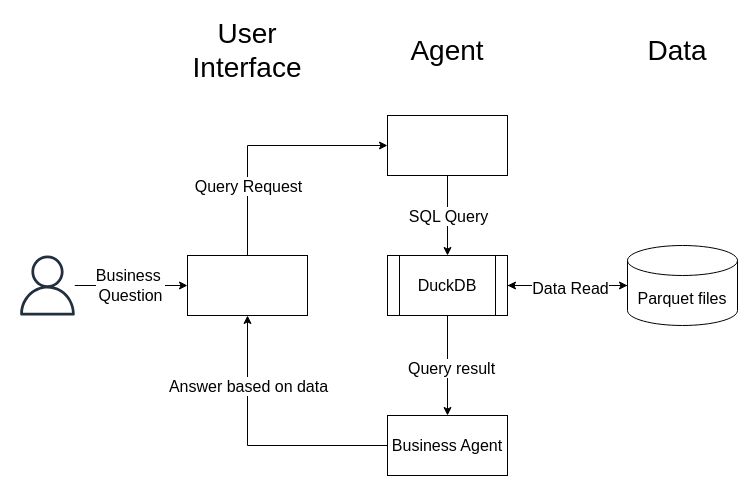
This 755x493 diagram has some shape labels left out. The shapes that lost their labels are listed below. From the top down, each one's centre as x and y in pixels, then its label:
At (447,145): "SQL Agent".
At (247,285): "Chainlit App".
